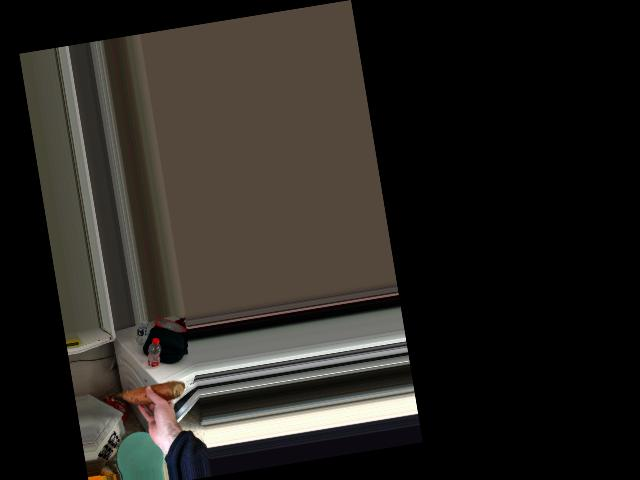sweet_potato: (118, 381, 180, 408)
